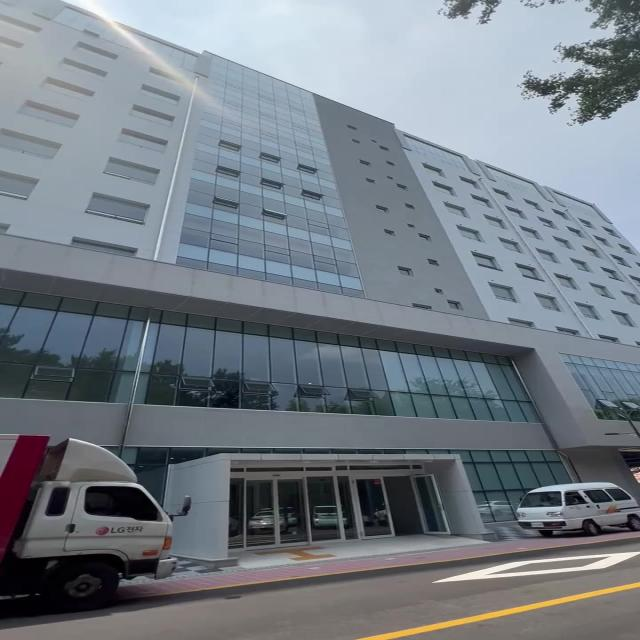building: (0, 40, 594, 436)
